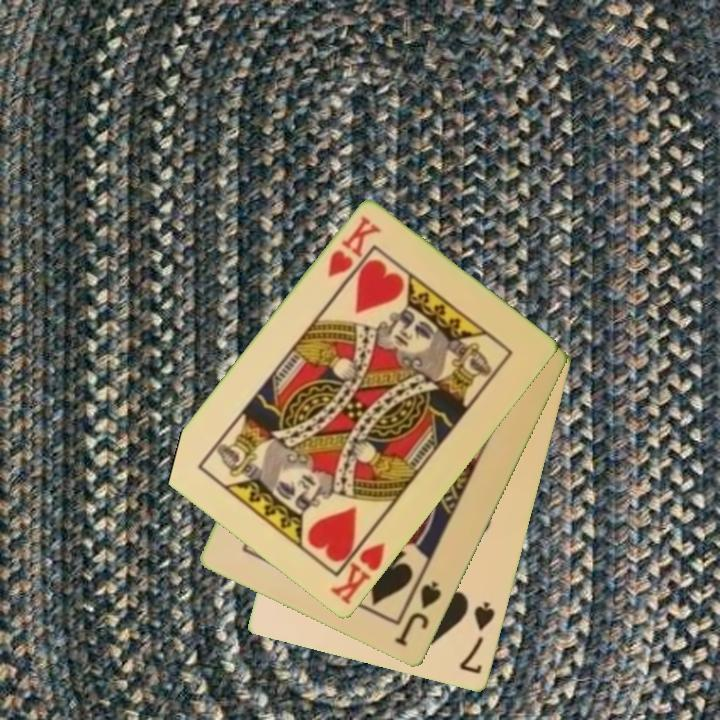7s: (456, 599, 498, 677)
Js: (391, 578, 445, 650)
Kh: (326, 527, 389, 608), (323, 213, 384, 281)
